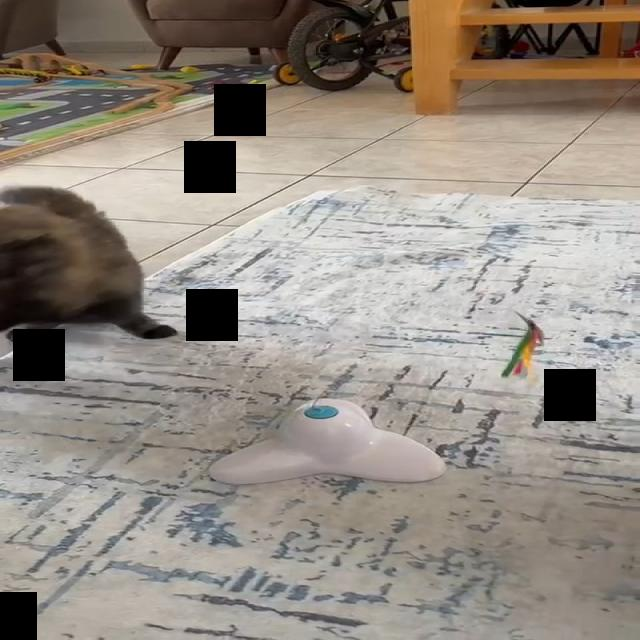authorized: (0, 184, 177, 344)
